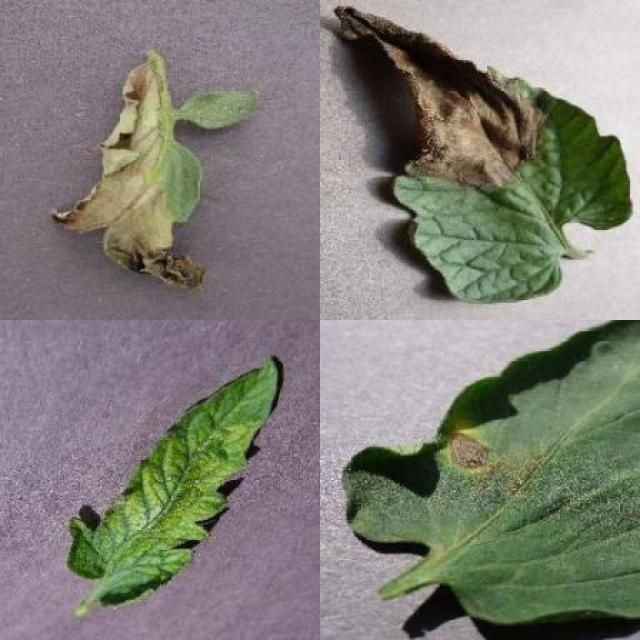Early Blight: (338, 320, 640, 623)
Late Blight: (332, 2, 634, 305), (48, 60, 208, 293)
Mosaic Virus: (65, 355, 278, 608)
